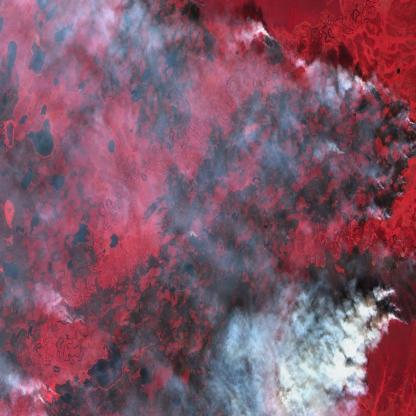fire: (257, 27, 416, 416), (56, 291, 94, 342), (36, 382, 77, 416)
